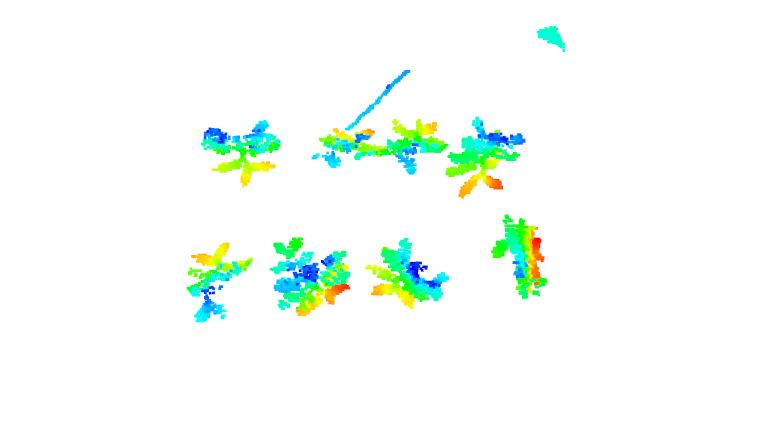chickpea: (444, 116, 528, 199), (268, 239, 352, 320), (366, 237, 450, 308), (181, 240, 254, 321), (204, 119, 281, 187), (488, 214, 549, 299), (378, 117, 450, 176), (310, 127, 386, 166)
